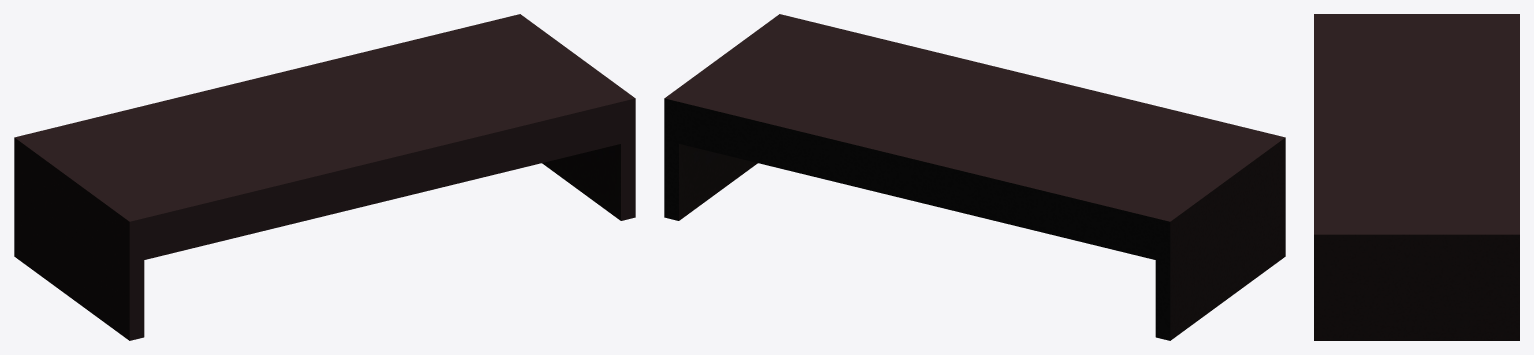
File: aiguizi.DAE
The picture shows the model from 3 angles, left to right: view 1: azimuth 30°, elevation 25°; view 2: azimuth 150°, elevation 25°; view 3: azimuth 270°, elevation 25°; orthographic projection. The views are drawn at different scales.
Parts seen in each view (by area): view 1: Box02; view 2: Box02; view 3: Box02.
Part boxes in pixels (x1=…): Box02: x1=14, y1=14, x2=635, y2=340; Box02: x1=664, y1=14, x2=1285, y2=340; Box02: x1=1314, y1=14, x2=1519, y2=340.
Bounding box in the file's own units: 153 × 60.46 × 34.48.
Materials: 1 (1 with a texture image).
